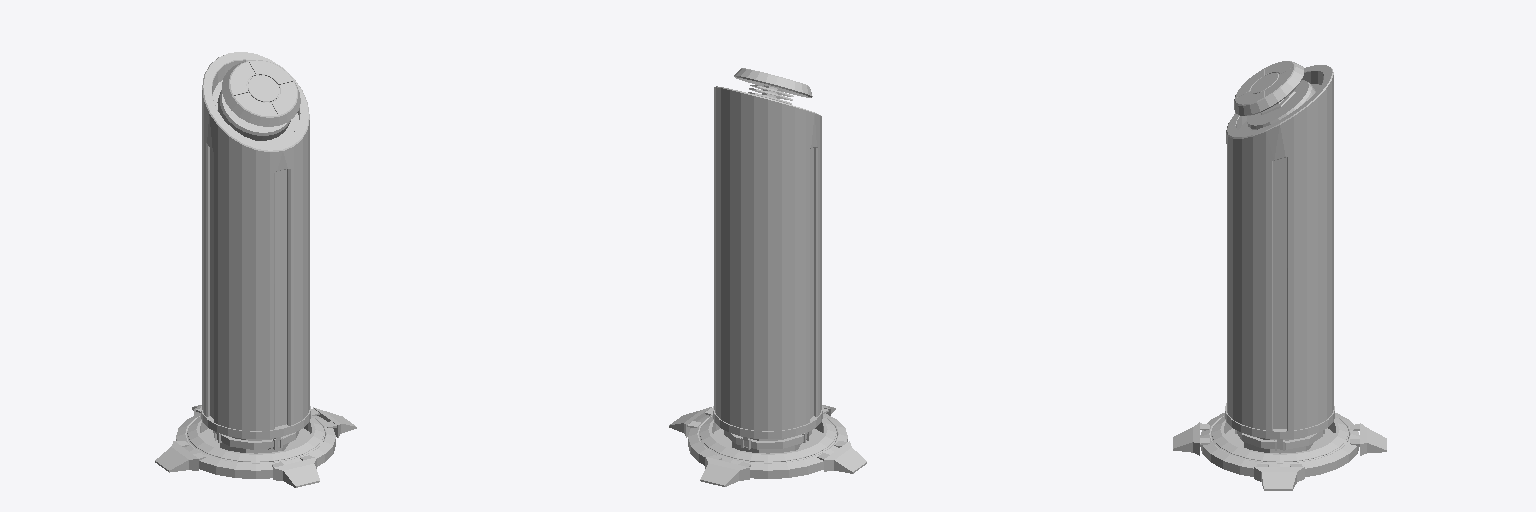
The model's file is switch.obj.
3 views of the same model, side by side, from view 1: azimuth 30°, elevation 25°; view 2: azimuth 150°, elevation 25°; view 3: azimuth 270°, elevation 25° (orthographic).
Visible parts, largest first — view 1: switch; view 2: switch; view 3: switch.
Part boxes in pixels (x1,y1,x2,y2): switch: (155, 52, 356, 487); switch: (669, 68, 866, 486); switch: (1173, 61, 1386, 490).
Bounding box in the file's own units: 24 × 46.72 × 24.